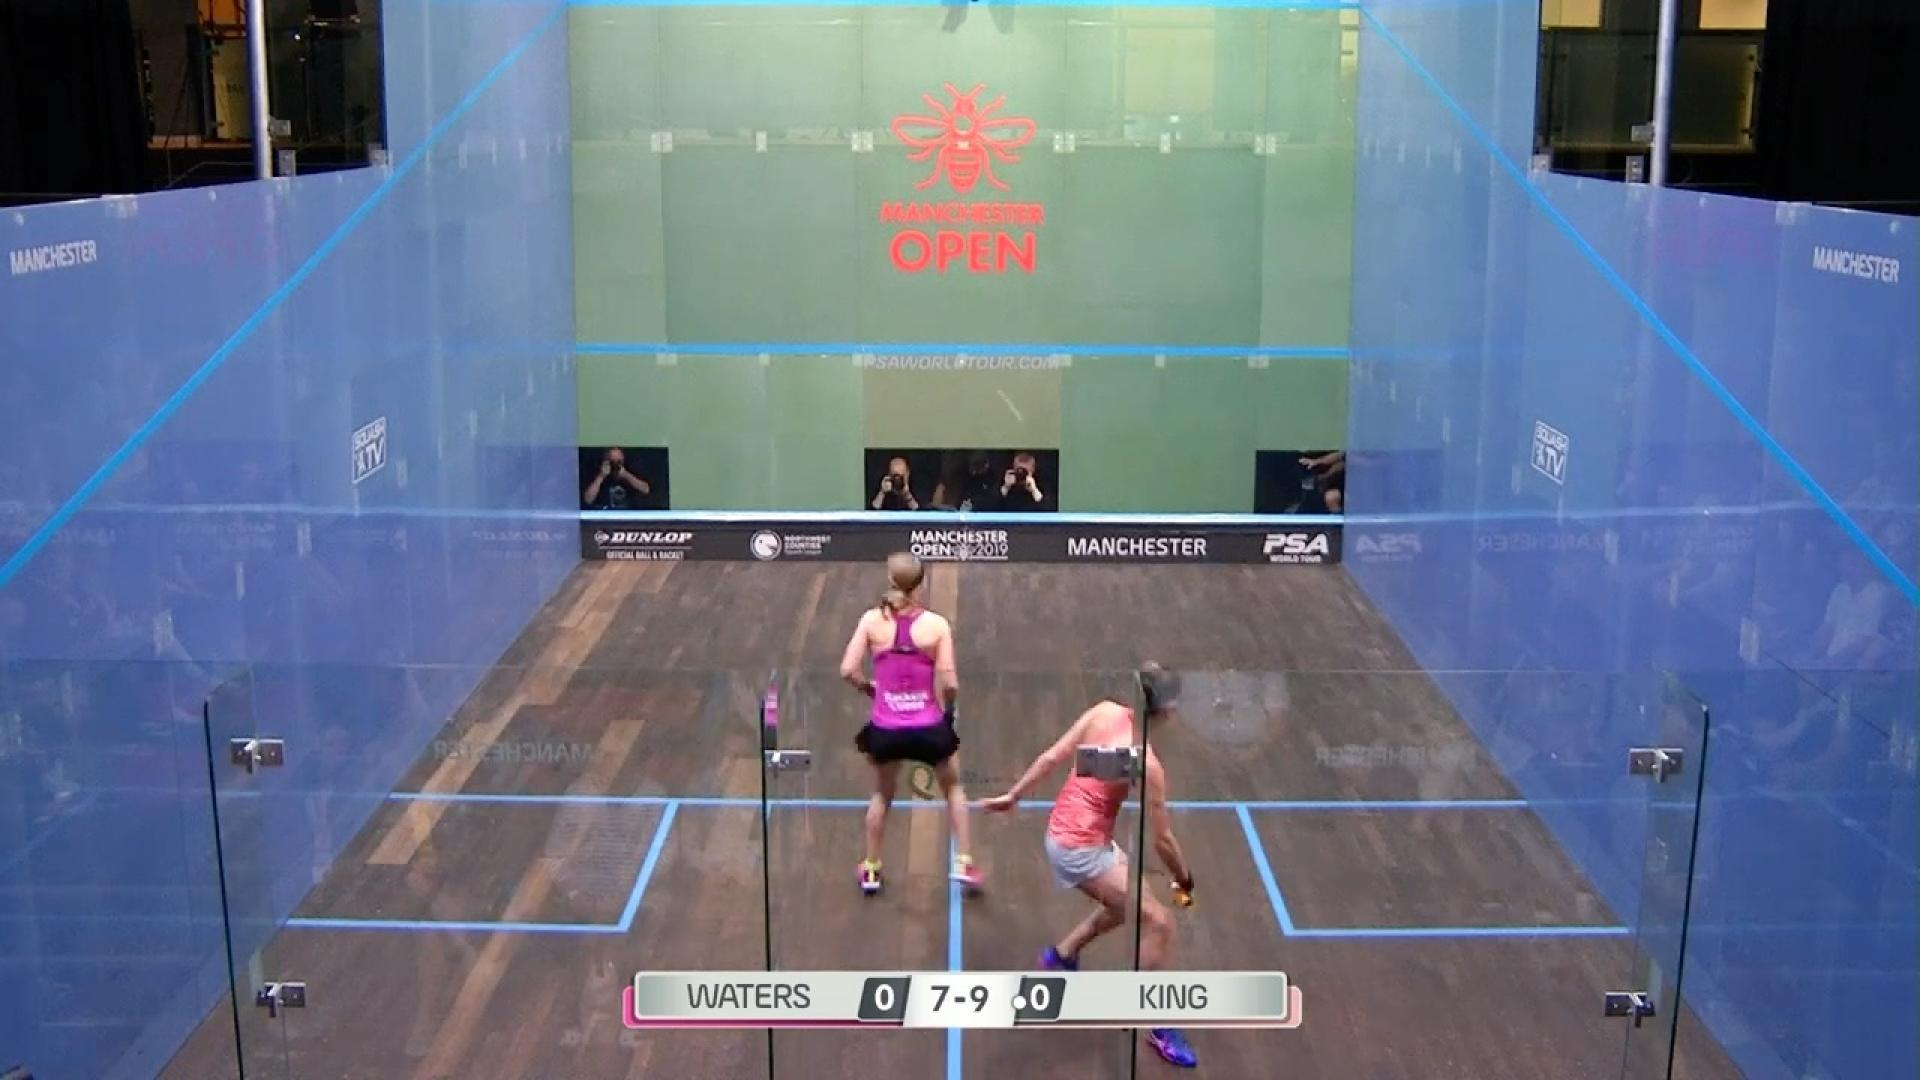Squash-Ball: (996, 377, 1035, 452)
